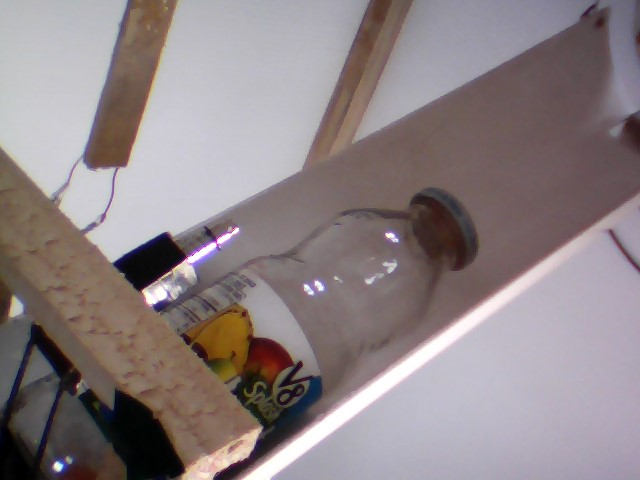vidrio: (167, 182, 489, 426)
